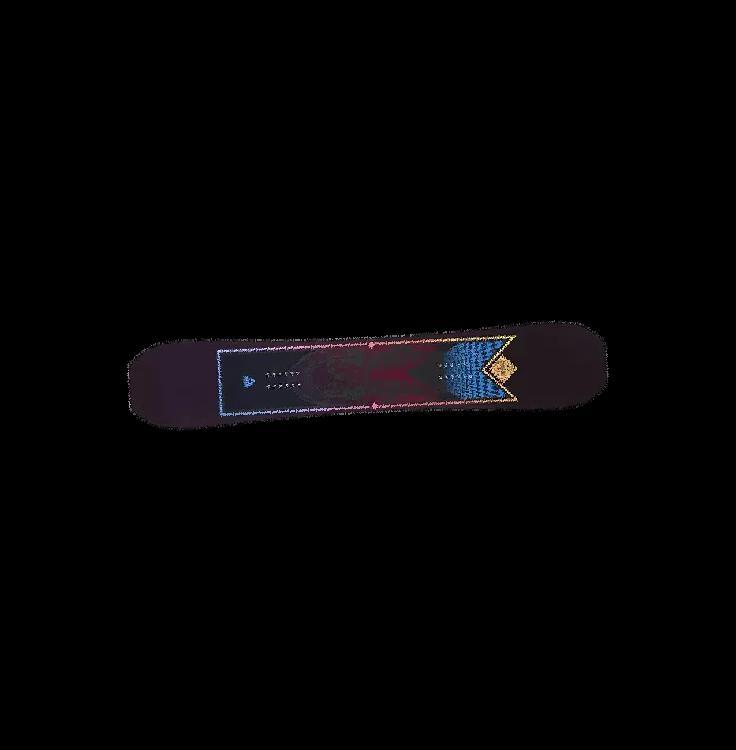Snowboard: (126, 319, 609, 430)
